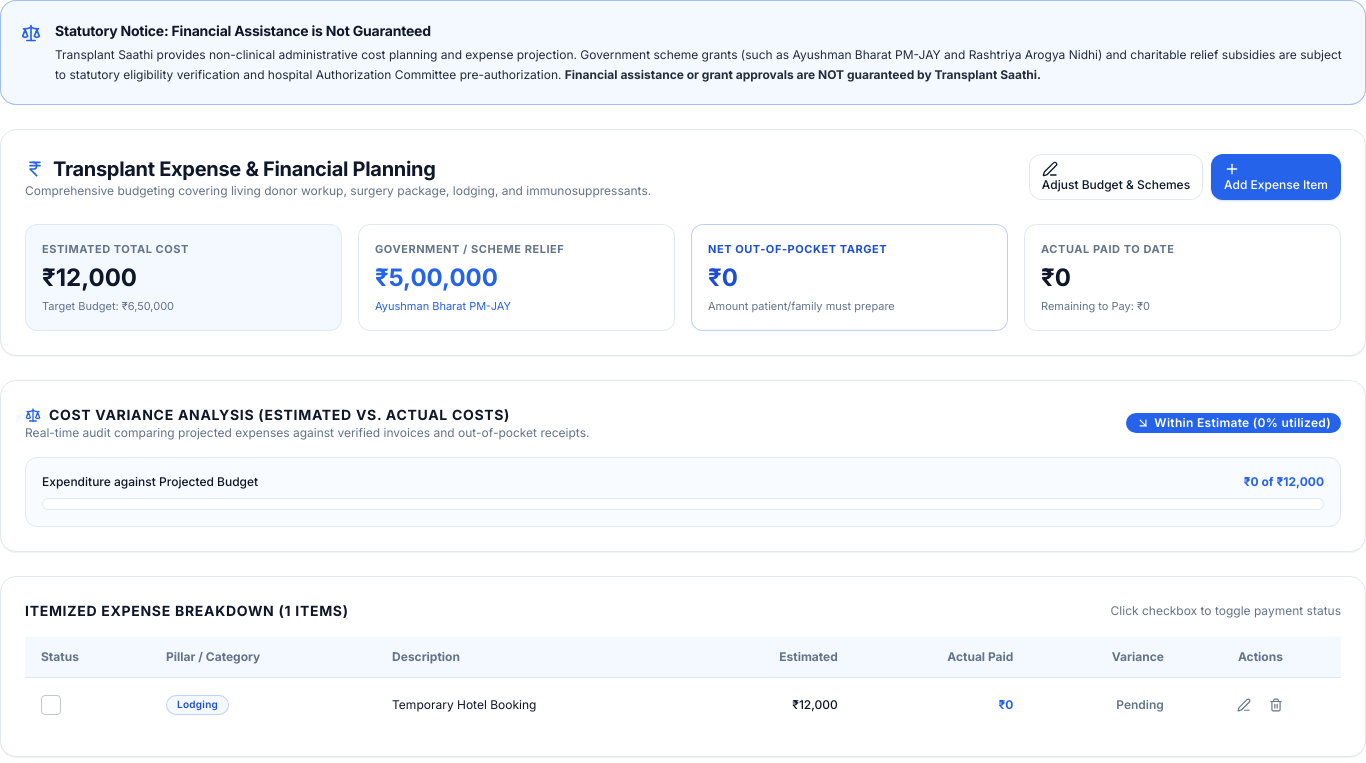
Assistance Request Workflow & Expense Planner Suite › Expense Planner & Financial Variance Analysis › deletes an expense item and logs audit trail
Expected: the text "Temporary Hotel Booking" is shown, [392,697,536,712]
Click the button titled "Delete Item" at (1276, 705), box [1263,692,1289,718]
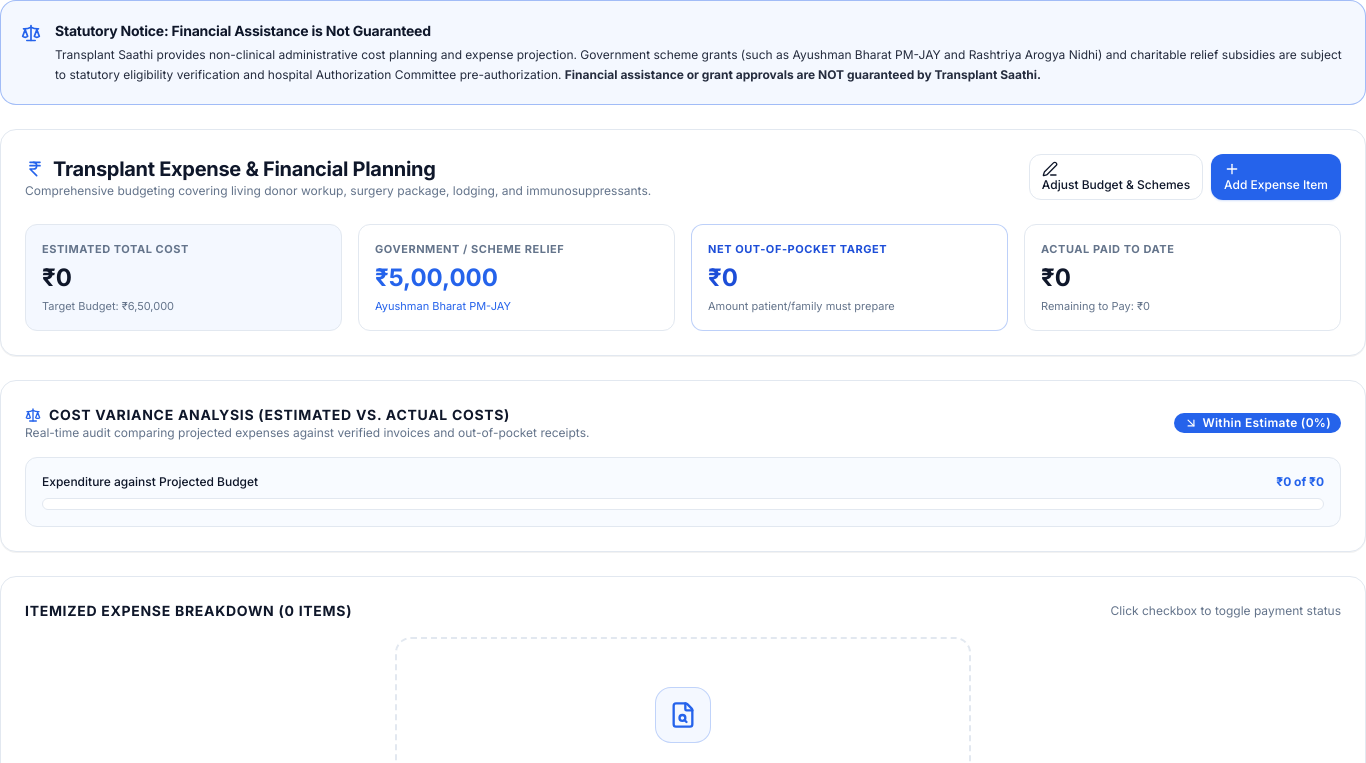
Now the text "Temporary Hotel Booking" is gone
